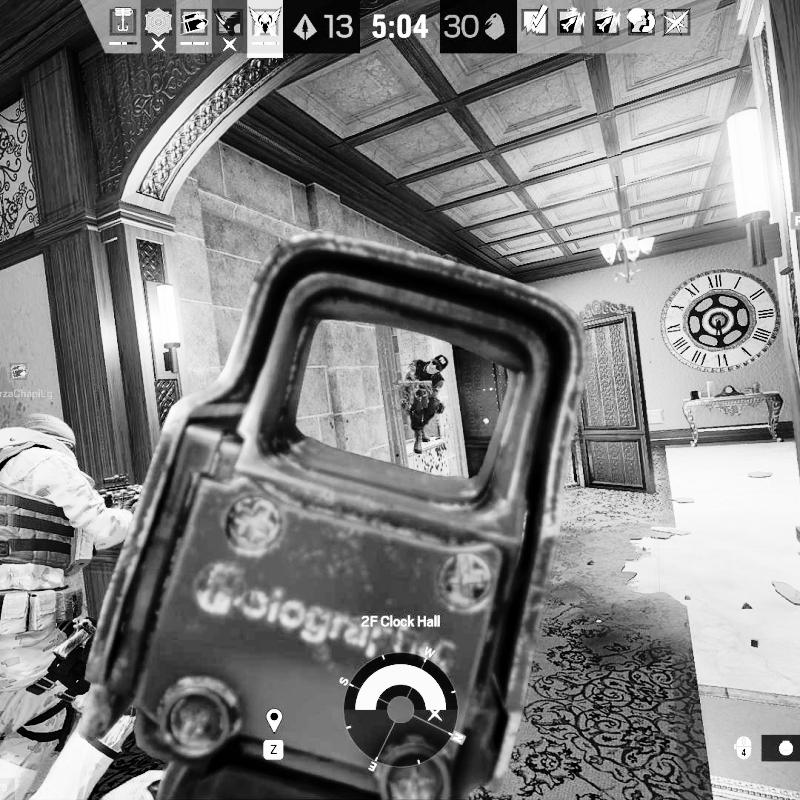Character: (0, 412, 150, 800), (395, 351, 451, 456)
Friend_label: (0, 362, 54, 401)
Head: (17, 413, 76, 446), (426, 353, 446, 375)
